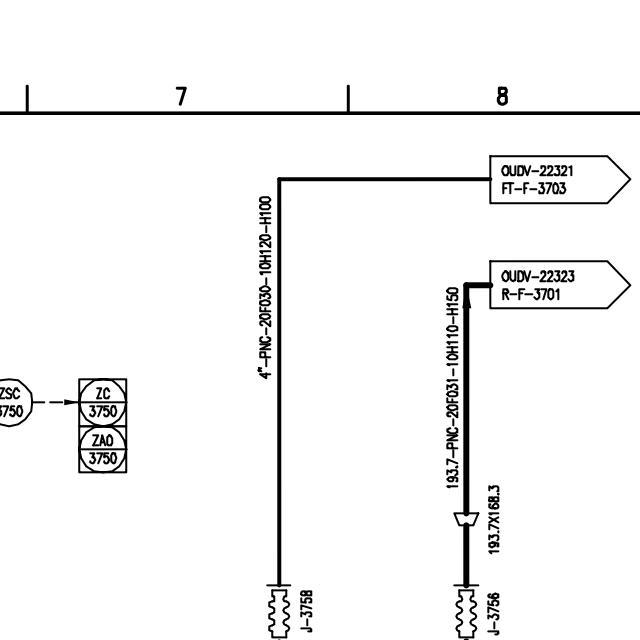EJ: (449, 576, 482, 639), (262, 579, 292, 639)
SP: (449, 508, 483, 532)
